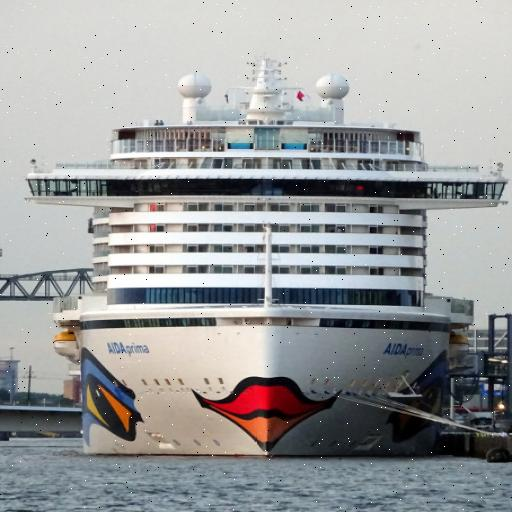cruises: (18, 54, 511, 463)
